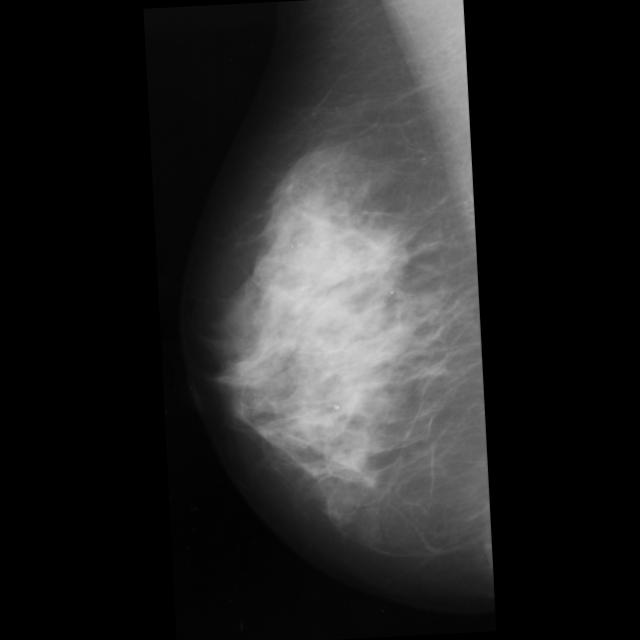SPIC: (408, 0, 562, 287)
